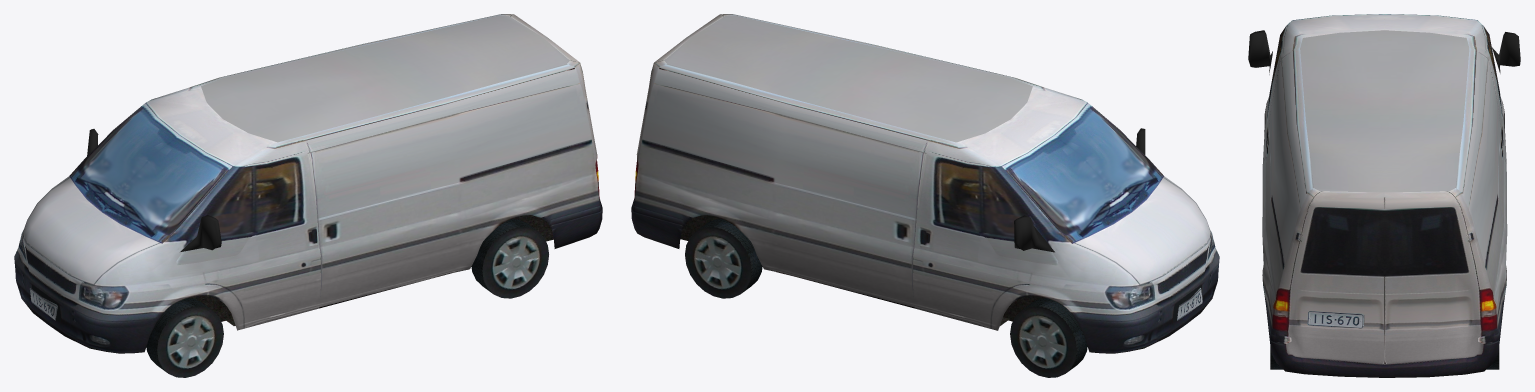
3 views of the same model, side by side, from view 1: azimuth 30°, elevation 25°; view 2: azimuth 150°, elevation 25°; view 3: azimuth 270°, elevation 25° (orthographic). The views are drawn at different scales.
Parts seen in each view (by area): view 1: 09body, 09tyres, 09tyresurf, 09fill; view 2: 09body, 09tyres, 09tyresurf, 09fill; view 3: 09body, 09plates, 09tyresurf.
Boxes of the visible parts, bbox=[...] form: 09body: bbox=[14, 14, 602, 353]; 09tyres: bbox=[157, 227, 548, 377]; 09tyresurf: bbox=[146, 219, 536, 372]; 09fill: bbox=[188, 215, 553, 325]; 09body: bbox=[631, 14, 1219, 353]; 09tyres: bbox=[685, 227, 1076, 377]; 09tyresurf: bbox=[697, 219, 1087, 372]; 09fill: bbox=[680, 215, 1045, 325]; 09body: bbox=[1248, 14, 1520, 377]; 09plates: bbox=[1307, 311, 1364, 328]; 09tyresurf: bbox=[1270, 347, 1499, 369].
Size of the model in its own units: 4.76 by 1.76 by 2.02.
15 materials, 14 textured.
